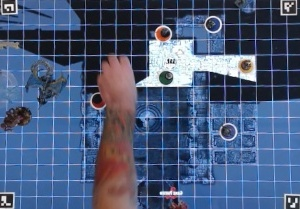blue: (202, 13, 225, 35)
green: (159, 69, 177, 84)
orange: (153, 22, 174, 45)
red: (90, 89, 108, 110)
violet: (219, 121, 240, 142)
yellow: (235, 56, 255, 72)
